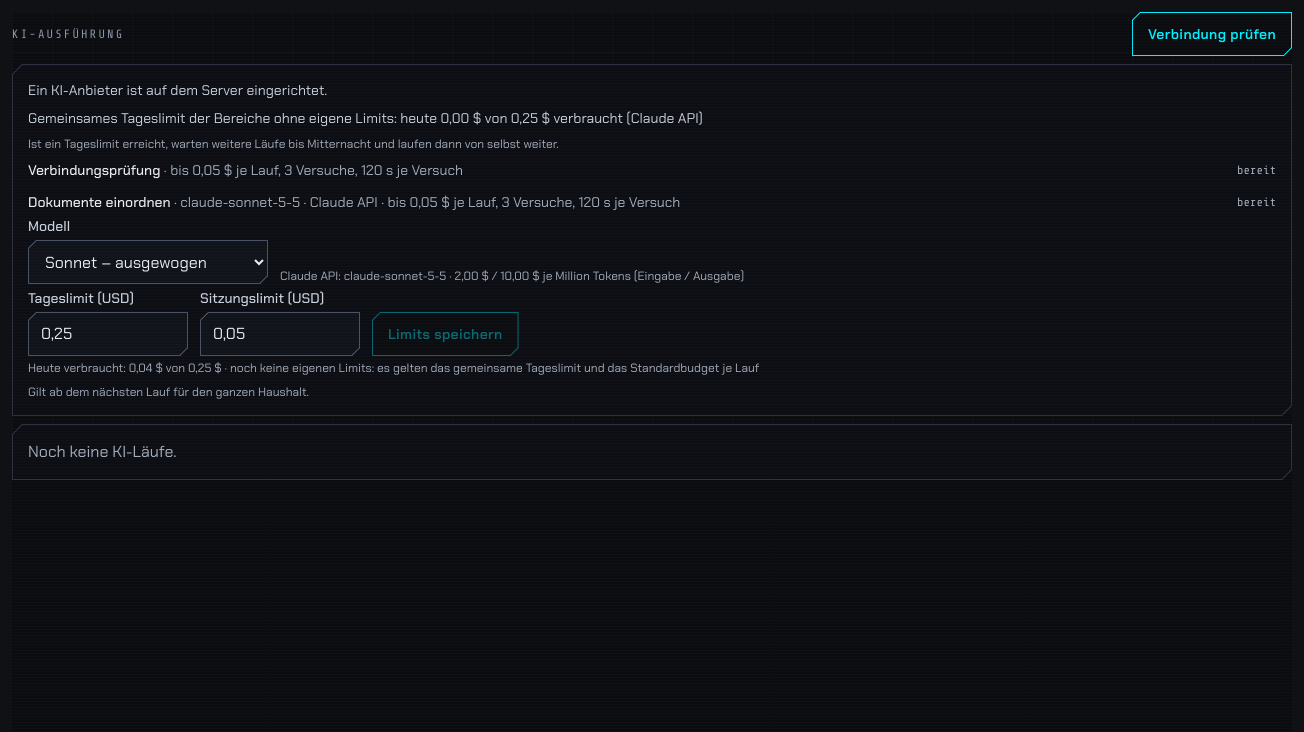
Scenario: AI model choice › sends the chosen family with the version it was based on and shows who changed it
This screenshot has width=1304, height=732.
Select "Opus – am gründlichsten" in the dropdown with test id "ai-model-DOCUMENT_CLASSIFICATION": (148, 262) [28,240,268,284]
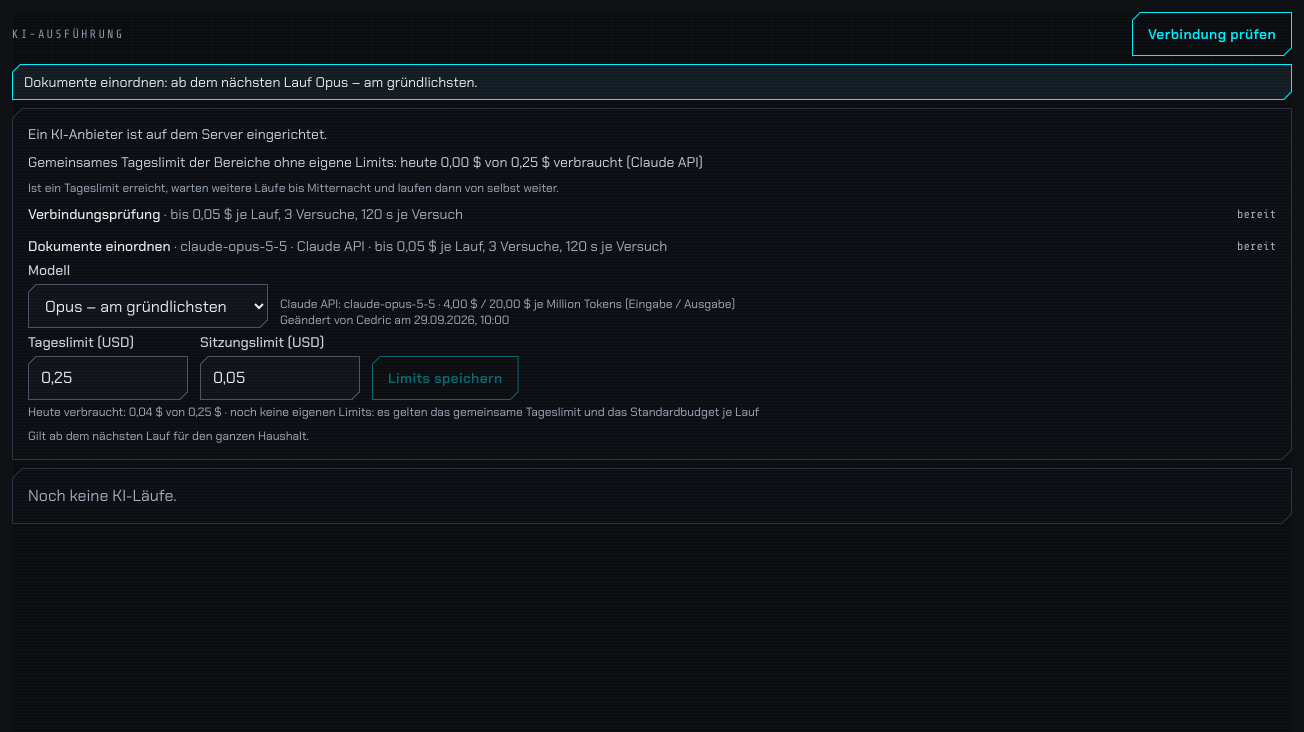
Expected: the text "Geändert von Cedric" is shown, [280,312,509,328]
Expected: the text "Dokumente einordnen: ab dem nächsten Lauf Opus – am gründlichsten." is shown, [24,73,477,91]
